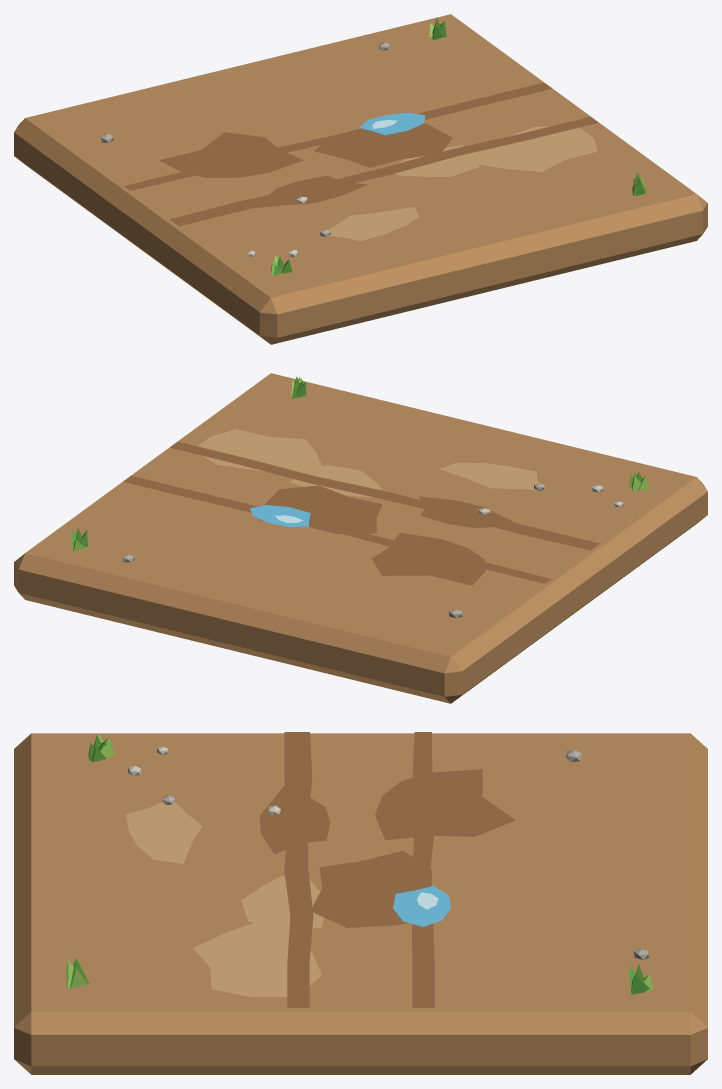
Rendered from tile_dirt.fbx.
The picture shows the model from 3 angles, top to bottom: view 1: azimuth 30°, elevation 25°; view 2: azimuth 150°, elevation 25°; view 3: azimuth 270°, elevation 25°; orthographic projection. The views are drawn at different scales.
Visible parts, largest first — view 1: tile_dirt, Details; view 2: tile_dirt, Details; view 3: tile_dirt, Details.
Boxes of the visible parts, left/top/right/bottom form: tile_dirt: left=14, top=14, right=707, bottom=344; Details: left=100, top=17, right=647, bottom=275; tile_dirt: left=14, top=373, right=707, bottom=703; Details: left=72, top=376, right=650, bottom=618; tile_dirt: left=14, top=732, right=707, bottom=1074; Details: left=66, top=734, right=653, bottom=994.
Size of the model in its own units: 1 by 0.1424 by 1.
